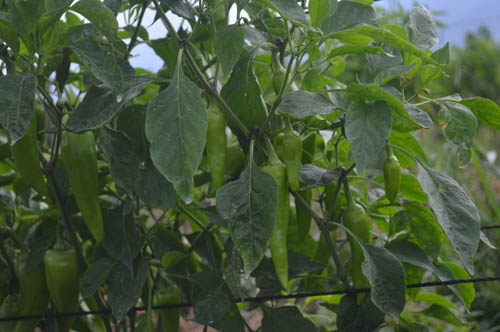ChiliPepper: (254, 165, 292, 292), (63, 129, 106, 239), (13, 263, 50, 322), (45, 250, 78, 314), (347, 210, 369, 297), (206, 112, 230, 186), (275, 137, 304, 189), (153, 291, 183, 323), (381, 159, 402, 201)
